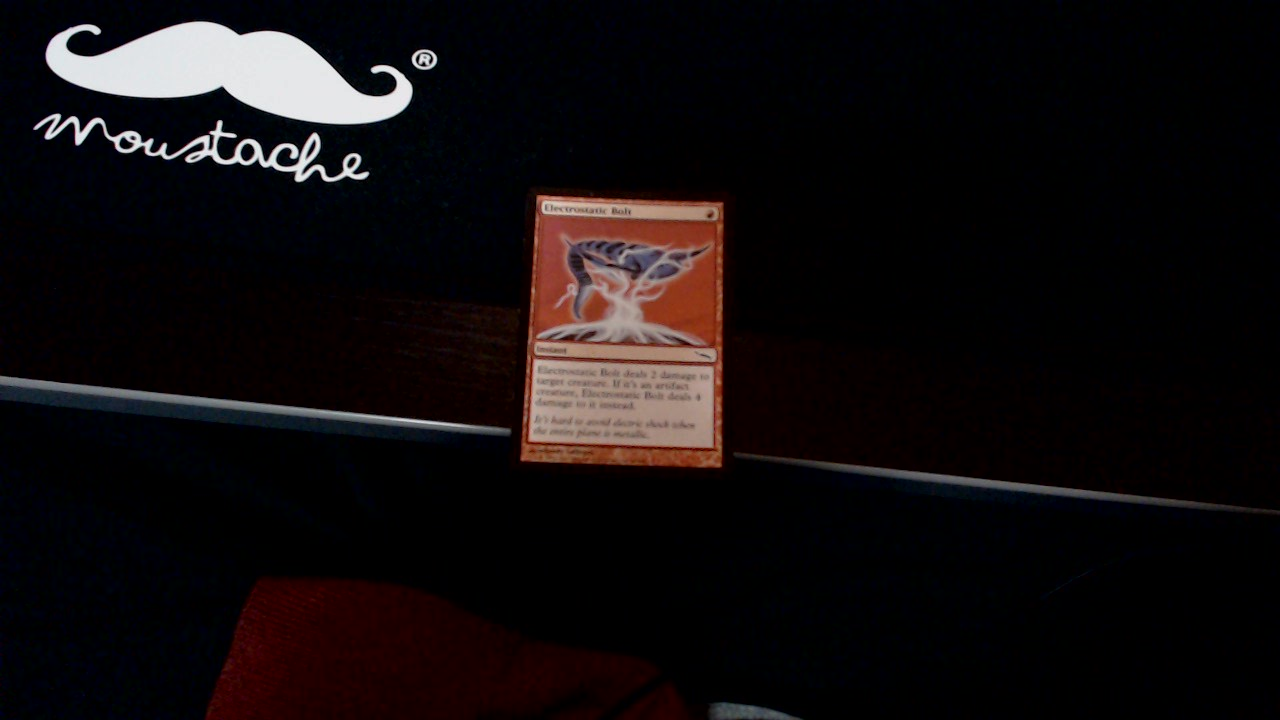MTG Card: (512, 174, 744, 483)
